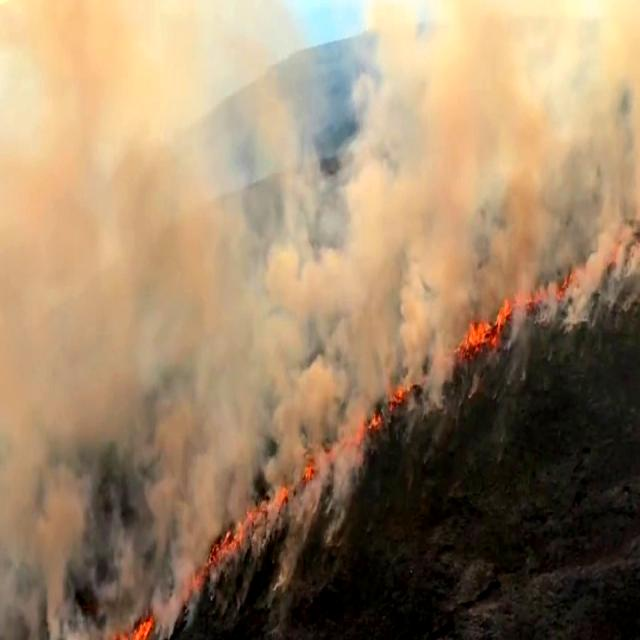smoke: (0, 178, 166, 384), (0, 0, 203, 147), (486, 57, 548, 304), (257, 264, 331, 460), (330, 154, 390, 392), (152, 359, 217, 553), (33, 466, 78, 640), (616, 0, 640, 199)
